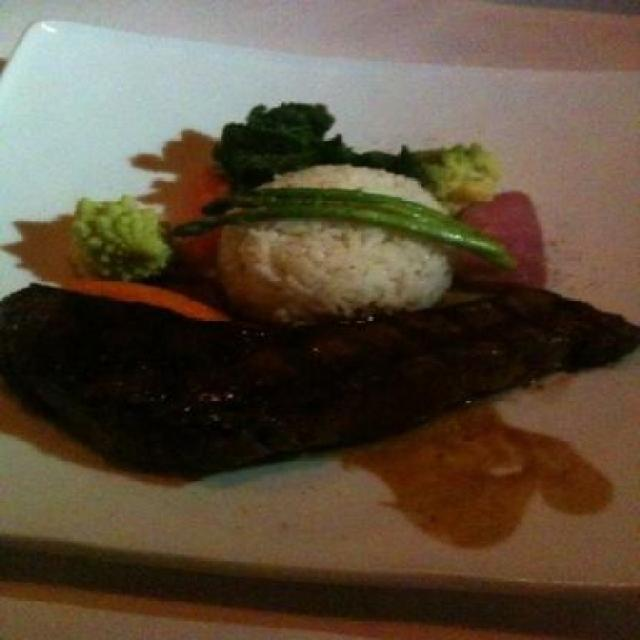Steak: (39, 288, 636, 510)
